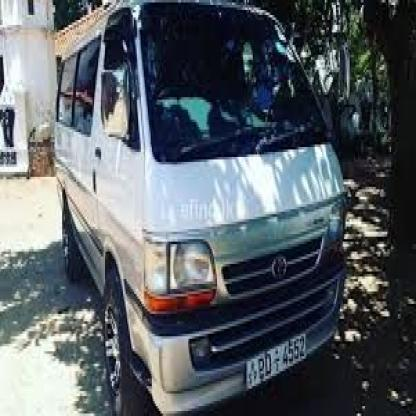number plate: (243, 330, 310, 393)
van front: (49, 1, 349, 416)
